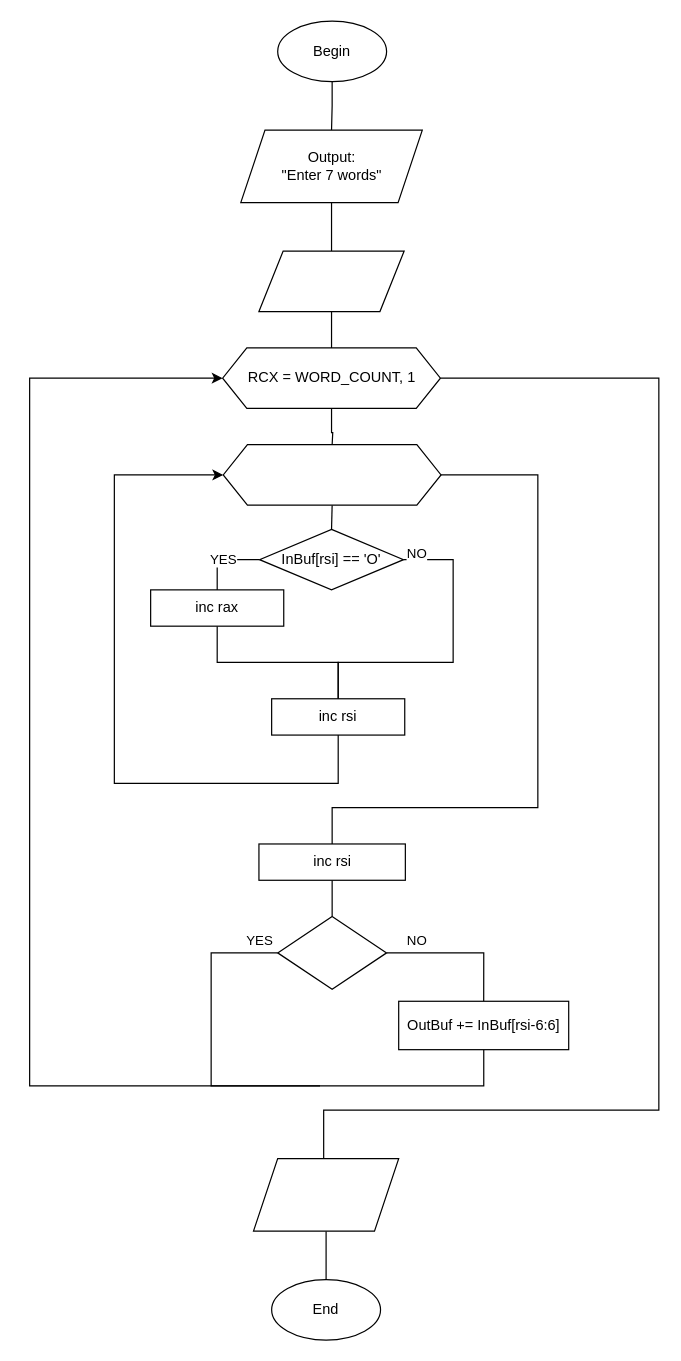
Some shapes in this 681 by 1361 pixel diagram are drawn without their labels. Each missing label, with the box of its shape:
Input InBuf: (258, 250, 404, 312)
Output: "Result: " OutBuf: (252, 1157, 399, 1231)
rax > 3: (276, 915, 387, 989)
RCX = WORD_LENGTH, 1: (222, 443, 441, 505)
